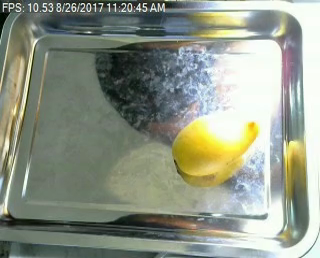Mango: (172, 110, 262, 177)
